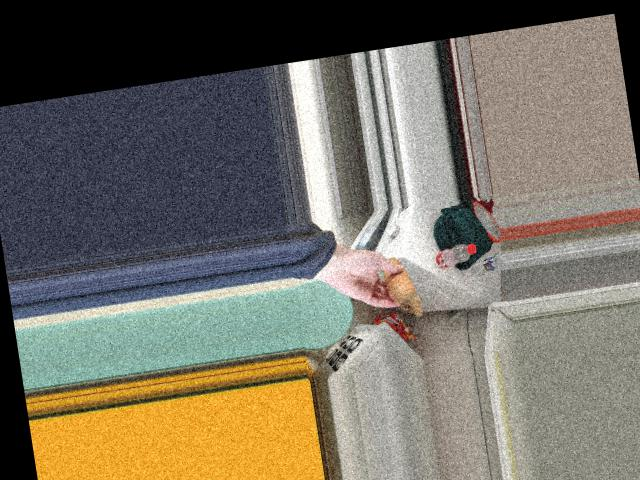sweet_potato: (383, 261, 416, 303)
